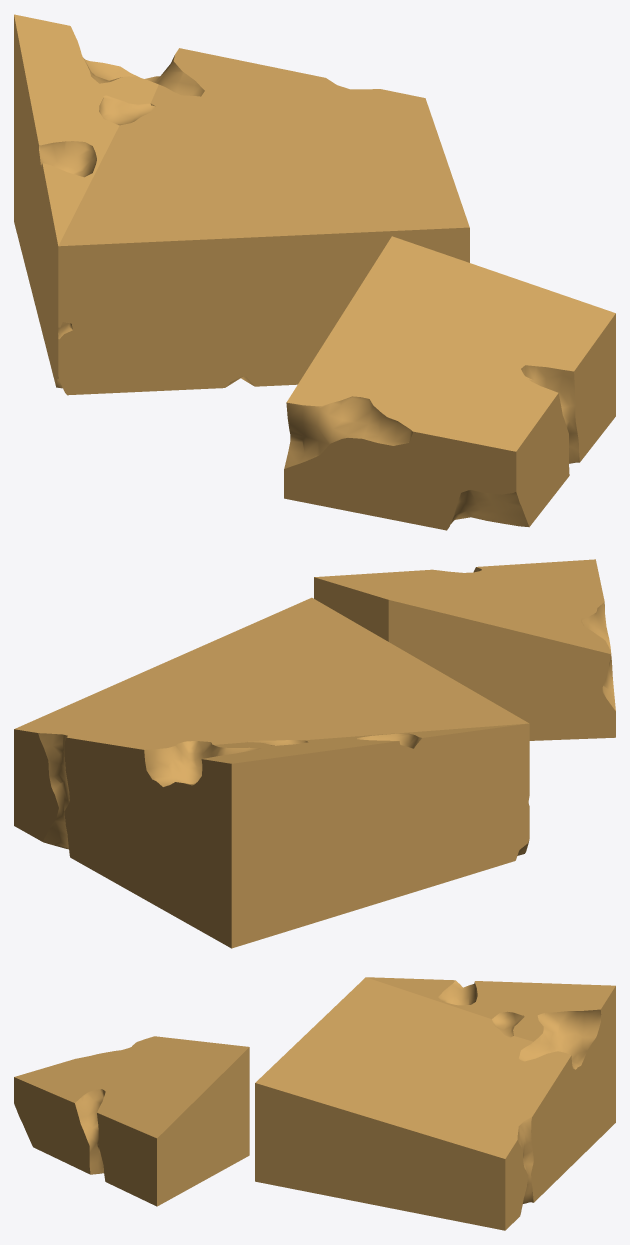
The model's file is Rock_Group_2.glb.
3 views of the same model, one above another, from view 1: azimuth 30°, elevation 25°; view 2: azimuth 150°, elevation 25°; view 3: azimuth 270°, elevation 25° (orthographic). The views are drawn at different scales.
Parts seen in each view (by area): view 1: Rock_Group_2; view 2: Rock_Group_2; view 3: Rock_Group_2.
Part boxes in pixels (left/top/right/bottom): Rock_Group_2: left=14, top=14, right=615, bottom=530; Rock_Group_2: left=14, top=559, right=615, bottom=948; Rock_Group_2: left=14, top=977, right=615, bottom=1230.
Size of the model in its own units: 2.64 by 1.12 by 4.4.
